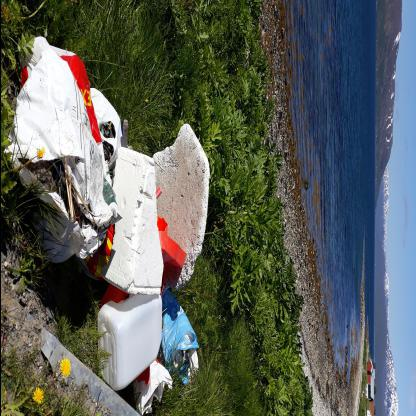kopuk: (149, 254, 297, 317)
plastik: (296, 255, 392, 322), (291, 220, 367, 258)
